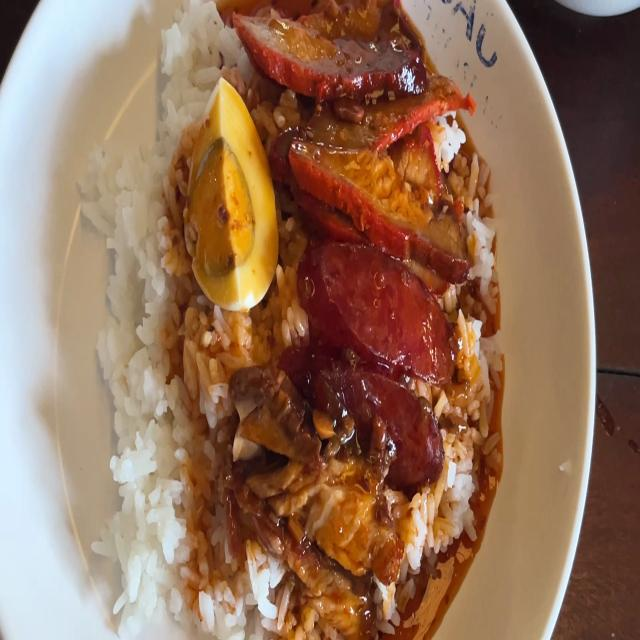red_pork_and_crispy_pork: (200, 98, 266, 293)
stir_fried_basil: (319, 264, 441, 438)
